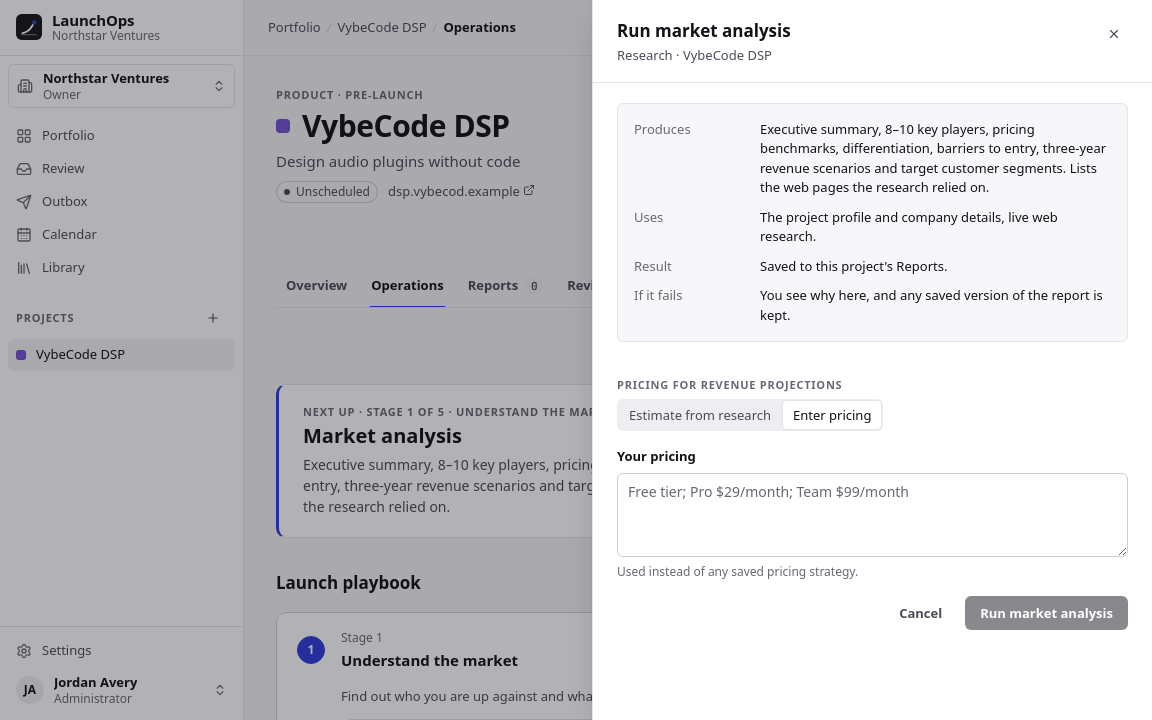
Test: Running a report › asks for pricing, or says it will be estimated, when no pricing strategy is saved
expect the button "Run market analysis" is disabled: met, box [965,596,1128,630]
Click the button "Estimate from research".
click(700, 415)  # box [619,401,781,429]
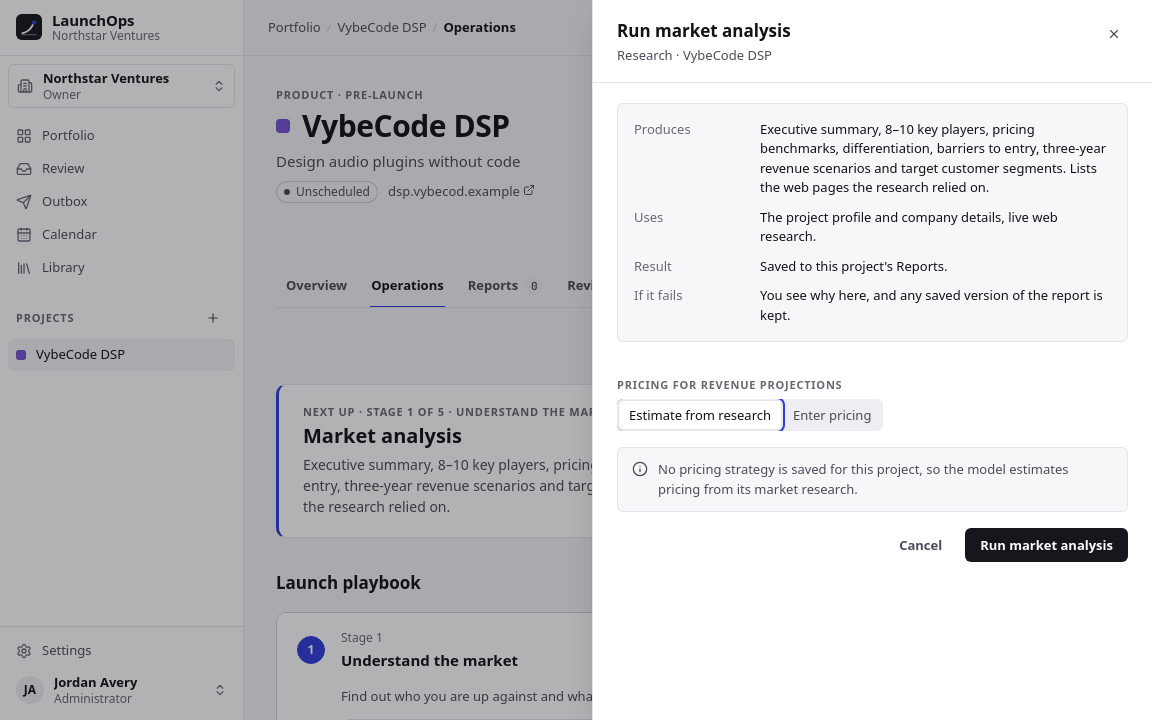
expect the text "No pricing strategy is saved for this project, so the model estimates pricing from its market research." is shown: met, box [658,460,1068,498]
expect the button "Run market analysis" is enabled: met, box [965,528,1128,562]
Click the button "Enter pricing".
click(832, 415)  # box [783,401,881,429]
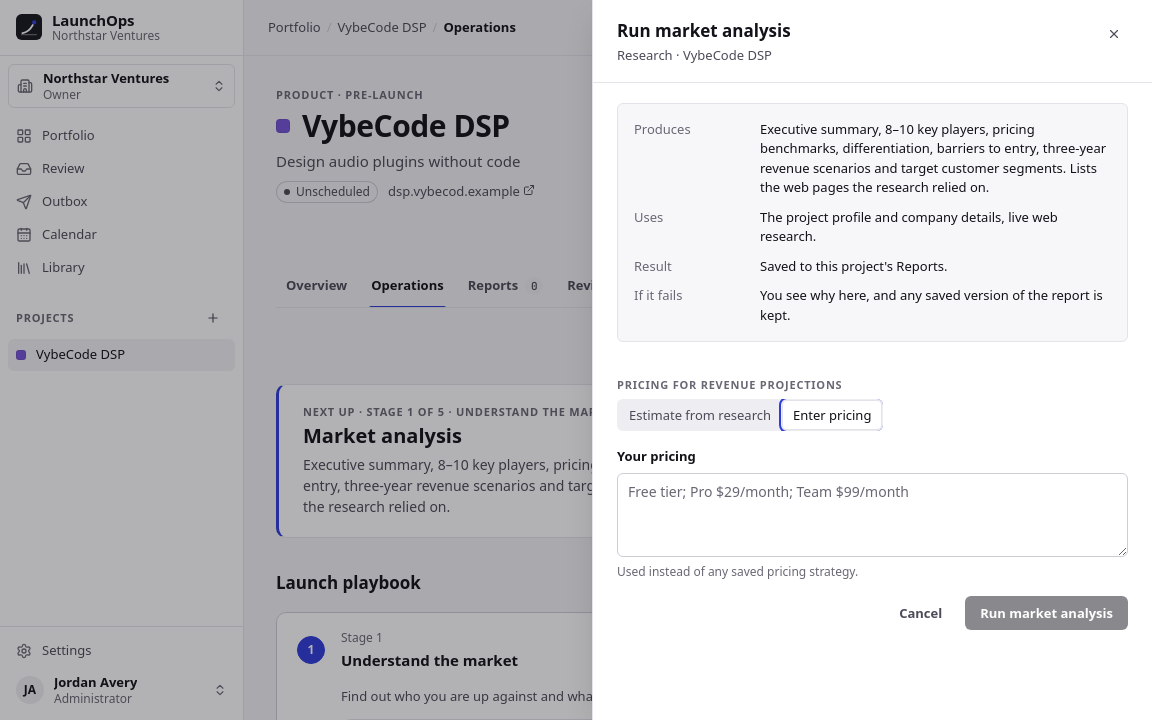
Type "Free tier; Pro $29/month" into the text box labelled "Your pricing".
click(872, 515); type("Free tier; Pro $29/month")  # box [617,473,1128,557]
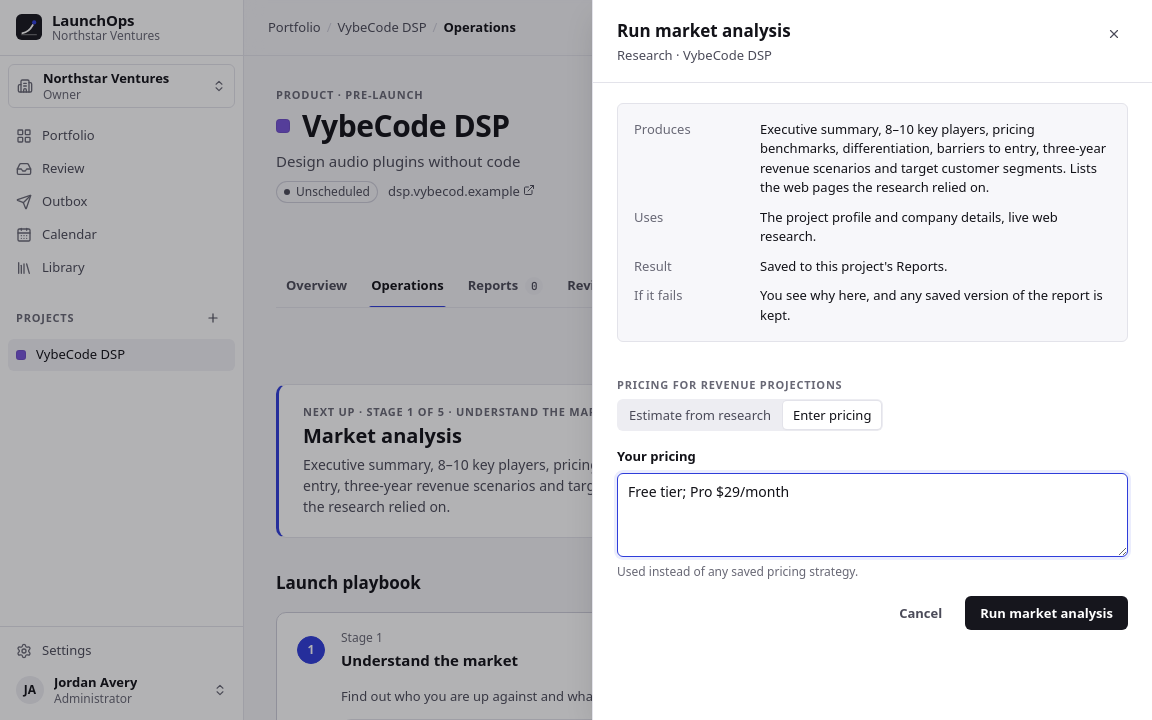
Click the button "Run market analysis".
click(1047, 613)  # box [965,596,1128,630]
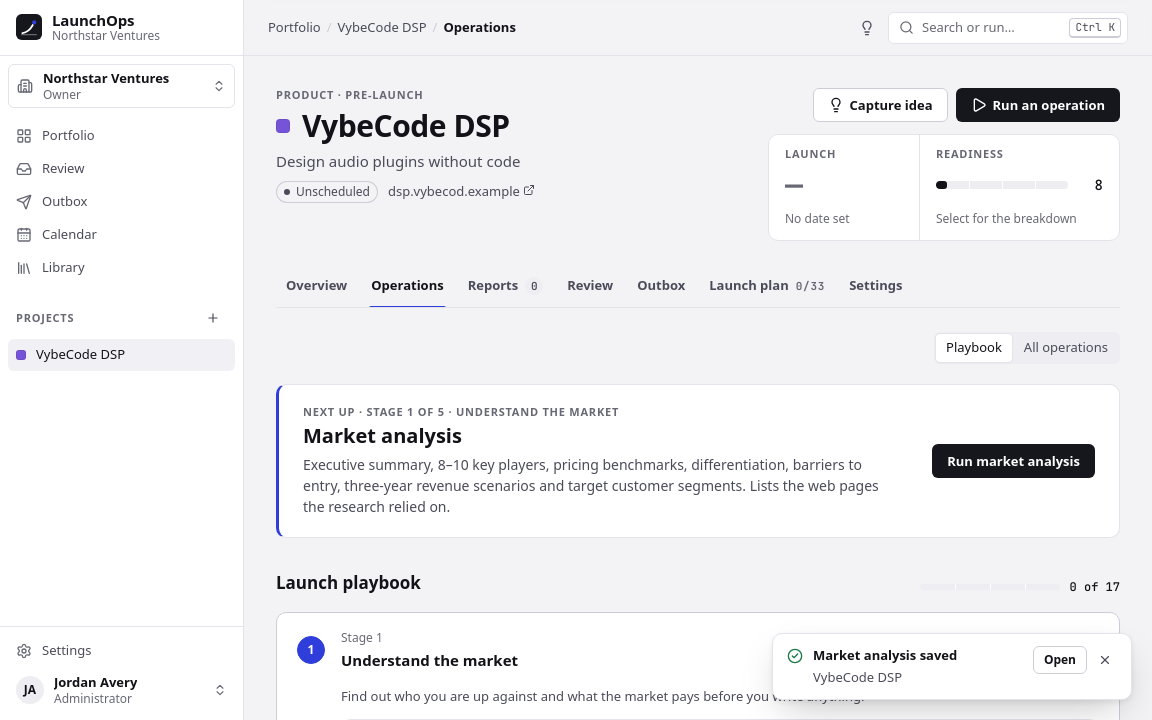
expect the text "Market analysis saved" is shown: met, box [813,646,957,664]
